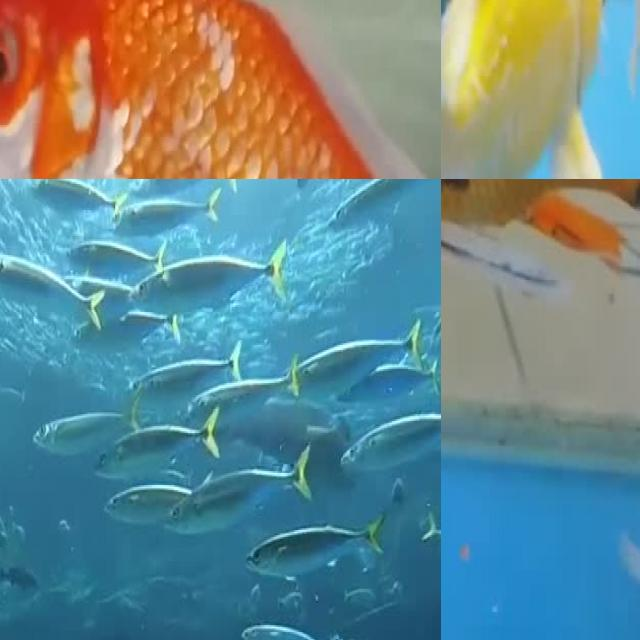fish: (0, 0, 441, 179), (441, 179, 640, 313)
